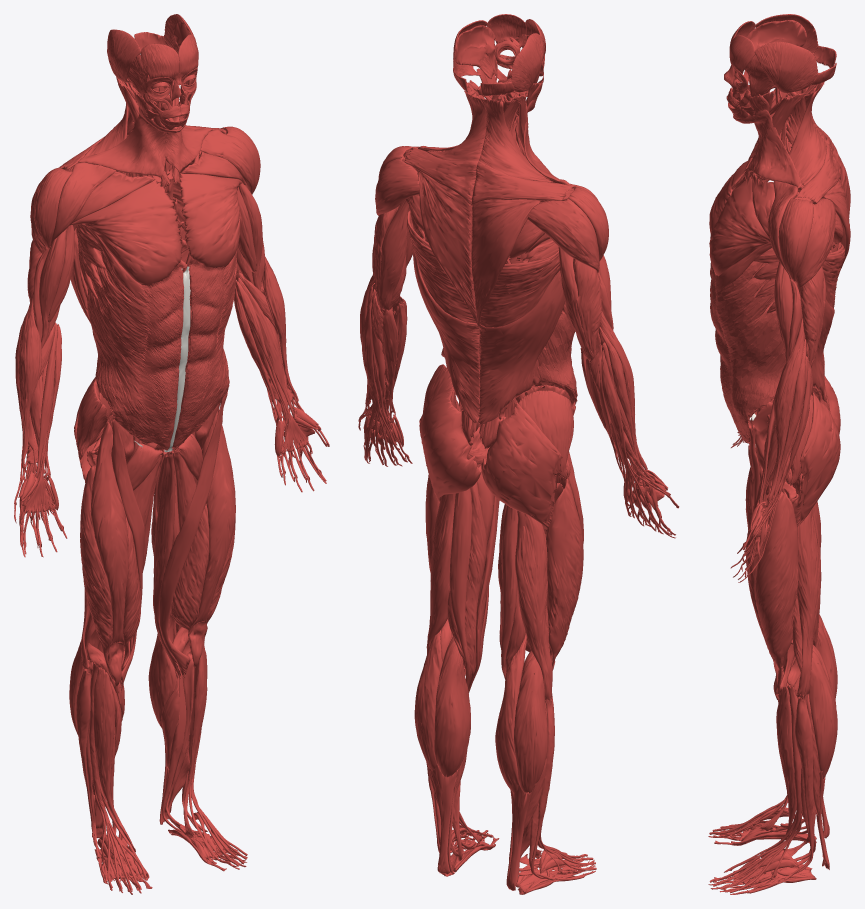
The model's file is corpo.glb.
The picture shows the model from 3 angles, left to right: view 1: azimuth 30°, elevation 25°; view 2: azimuth 150°, elevation 25°; view 3: azimuth 270°, elevation 25°; orthographic projection.
Parts seen in each view (by area): view 1: External abdominal oblique muscle.r, Sternocostal head of pectoralis major muscle.r, External abdominal oblique muscle.l, Rectus femoris muscle.r, Sternocostal head of pectoralis major muscle.l, Rectus femoris muscle.l, Sartorius muscle.l, Vastus lateralis muscle.r, Platysma.r, Vastus medialis muscle.l, Gracilis muscle.l, Tibialis anterior muscle.r (+45 smaller); view 2: Latissimus dorsi muscle.r, Gluteus maximus muscle.r, Latissimus dorsi muscle.l, Descending part of trapezius muscle.l, Vastus lateralis muscle.r, Long head of biceps femoris.r, Gluteus maximus muscle.l, Descending part of trapezius muscle.r, Medial head of gastrocnemius.l, Lateral head of gastrocnemius.r, Scapular spinal part of deltoid muscle.r, Semitendinosus muscle.l (+35 smaller); view 3: External abdominal oblique muscle.l, Vastus lateralis muscle.l, Sternocostal head of pectoralis major muscle.l, Gluteus maximus muscle.l, Long head of biceps femoris.l, Temporoparietalis muscle.l, Lateral head of gastrocnemius.l, Platysma.l, Brachioradialis muscle.l, Acromial part of deltoid muscle.l, Scapular spinal part of deltoid muscle.l, Ascending part of trapezius muscle.l (+43 smaller).
Part boxes in pixels (x1,y1,x2,y2): External abdominal oblique muscle.r: (87,251,183,443); Sternocostal head of pectoralis major muscle.r: (70,180,182,285); External abdominal oblique muscle.l: (176,257,236,439); Rectus femoris muscle.r: (90,421,128,686); Sternocostal head of pectoralis major muscle.l: (179,173,242,268); Rectus femoris muscle.l: (188,410,235,667); Sartorius muscle.l: (159,390,227,677); Vastus lateralis muscle.r: (80,464,113,679); Platysma.r: (78,107,177,177); Vastus medialis muscle.l: (171,503,209,653); Gracilis muscle.l: (153,451,180,678); Tibialis anterior muscle.r: (93,667,135,852); Latissimus dorsi muscle.r: (478,250,564,424); Gluteus maximus muscle.r: (481,402,562,528); Latissimus dorsi muscle.l: (406,211,480,422); Descending part of trapezius muscle.l: (417,170,478,326); Vastus lateralis muscle.r: (546,477,583,667); Long head of biceps femoris.r: (515,510,552,700); Gluteus maximus muscle.l: (419,387,481,501); Descending part of trapezius muscle.r: (471,199,548,326); Medial head of gastrocnemius.l: (434,637,470,777); Lateral head of gastrocnemius.r: (513,656,547,793); Scapular spinal part of deltoid muscle.r: (527,198,599,272); Semitendinosus muscle.l: (449,488,472,687); External abdominal oblique muscle.l: (710,261,799,441); Vastus lateralis muscle.l: (755,491,798,694); Sternocostal head of pectoralis major muscle.l: (709,177,770,275); Gluteus maximus muscle.l: (793,392,840,526); Long head of biceps femoris.l: (797,508,821,697); Temporoparietalis muscle.l: (754,41,818,92); Lateral head of gastrocnemius.l: (809,651,837,778); Platysma.l: (733,109,801,188); Brachioradialis muscle.l: (767,317,804,503); Acromial part of deltoid muscle.l: (778,198,813,281); Scapular spinal part of deltoid muscle.l: (795,199,835,290); Ascending part of trapezius muscle.l: (789,82,826,185).
Size of the model in its own units: 66 by 167 by 25.86.
